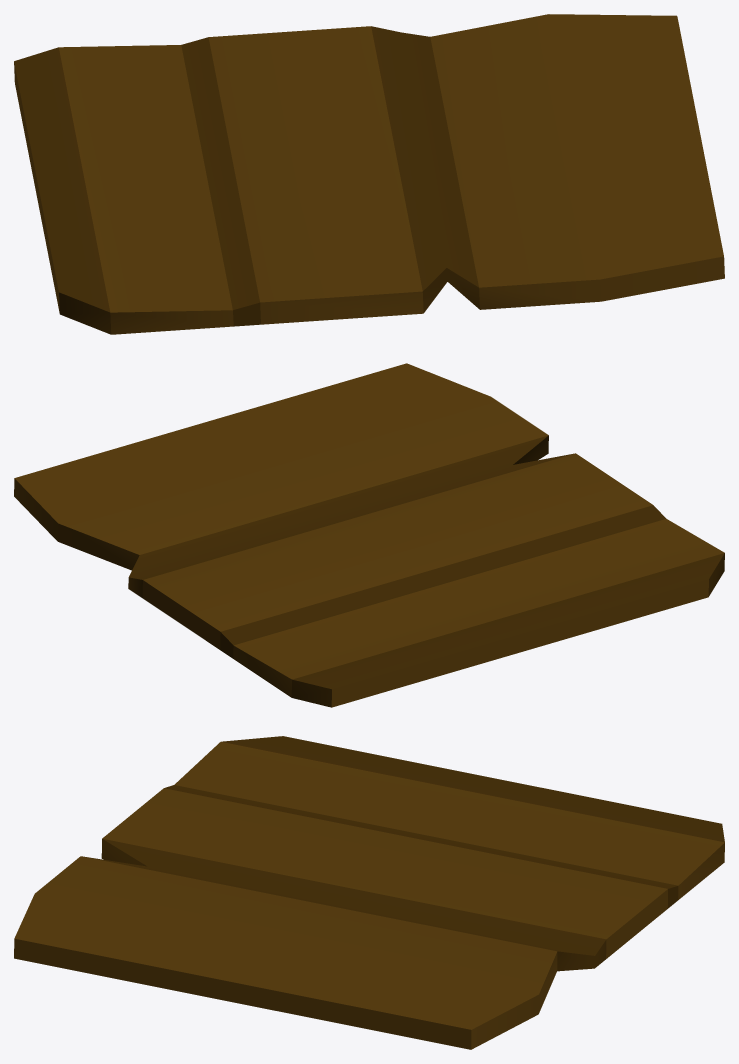
The model's file is Wooden_Plank.fbx.
The picture shows the model from 3 angles, top to bottom: view 1: azimuth 30°, elevation 25°; view 2: azimuth 150°, elevation 25°; view 3: azimuth 270°, elevation 25°; orthographic projection. The views are drawn at different scales.
Visible parts, largest first — view 1: pCube8; view 2: pCube8; view 3: pCube8.
Boxes of the visible parts, x1,y1,x2,y2 form: pCube8: (14, 14, 724, 334); pCube8: (14, 363, 724, 707); pCube8: (14, 736, 724, 1049).
Size of the model in its own units: 7.45 by 0.4315 by 7.14.
